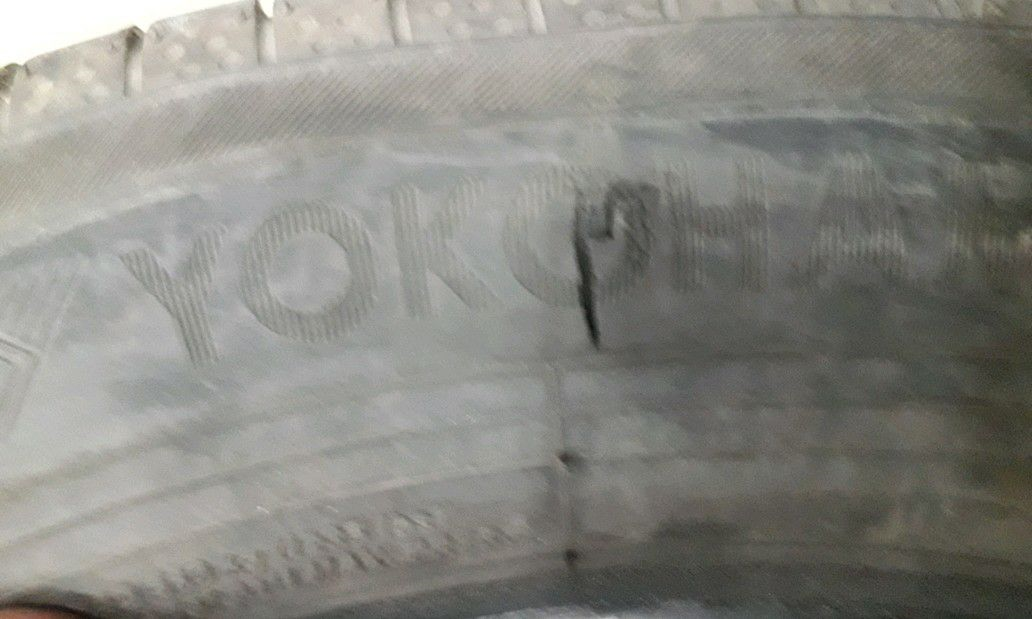cut: (570, 188, 601, 358)
